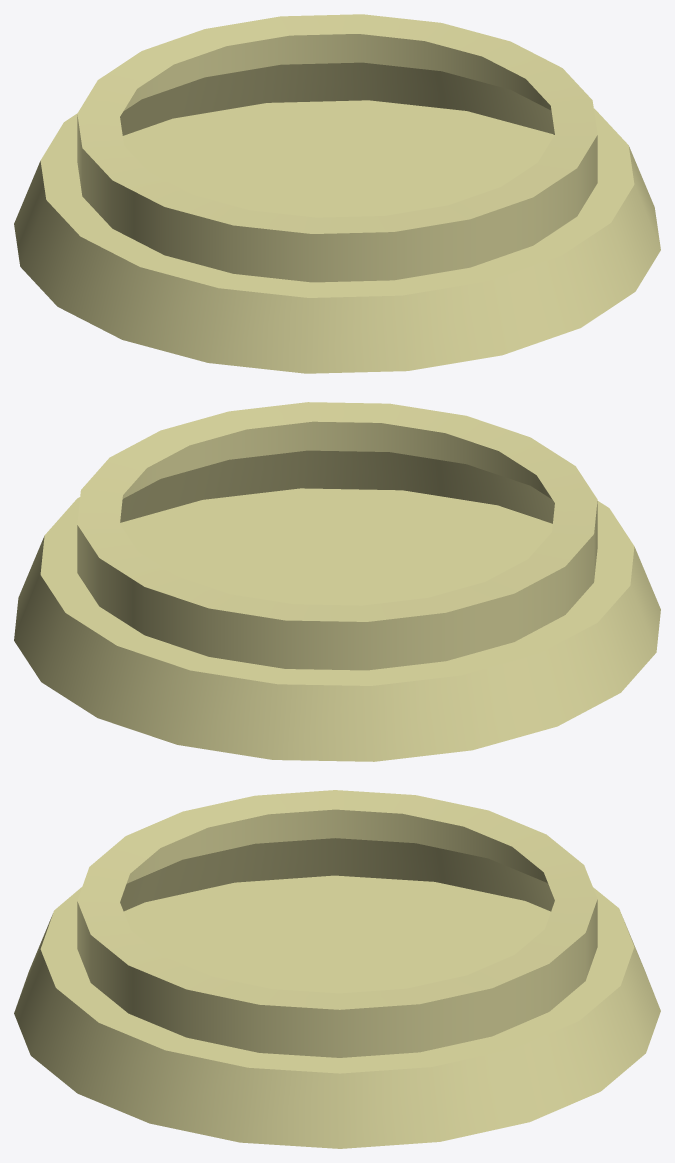
The model's file is Shotgun_main_body.fbx.
The picture shows the model from 3 angles, top to bottom: view 1: azimuth 30°, elevation 25°; view 2: azimuth 150°, elevation 25°; view 3: azimuth 270°, elevation 25°; orthographic projection.
Parts seen in each view (by area): view 1: pCylinder463; view 2: pCylinder463; view 3: pCylinder463.
Boxes of the visible parts, x1,y1,x2,y2 form: pCylinder463: (14, 14, 660, 373); pCylinder463: (14, 402, 660, 761); pCylinder463: (14, 790, 660, 1148).
Bounding box in the file's own units: 33.05 × 6.33 × 33.05.
